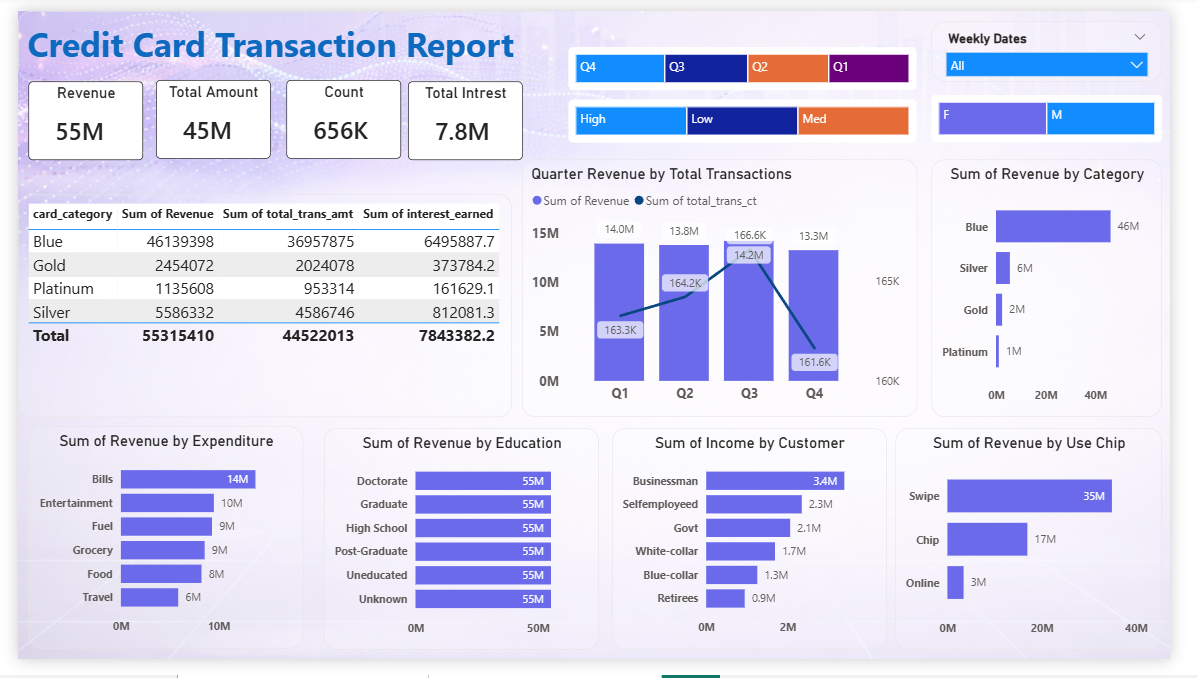

The page's visual inventory and layout, read from the dashboard file:
{"tool":"powerbi","page":{"name":"Credit Card Transaction","canvas":[1280,720],"ordinal":0},"visuals":[{"type":"textbox","box":[0,0,599.7,77.9],"z":0},{"type":"lineStackedColumnComboChart","title":"Quarter Revenue by Total Transactions","fields":{"Category":["public cc_detail.qtr"],"Y":["Sum(public cc_detail.Revenue)"],"Y2":["Sum(public cc_detail.total_trans_ct)"]},"box":[559.9,165.4,439,286.3],"z":1000},{"type":"barChart","title":"Sum of Revenue by Expenditure","fields":{"Y":["Sum(public cc_detail.Revenue)"],"Category":["public cc_detail.exp_type"]},"box":[11.1,461.3,305.4,246.5],"z":2000},{"type":"barChart","title":"Sum of Revenue by Education","fields":{"Y":["Sum(public cc_detail.Revenue)"],"Category":["public cust_detail.education_level"]},"box":[340.4,462.9,305.4,246.5],"z":3000},{"type":"barChart","title":"Sum of Revenue by Category","fields":{"Y":["Sum(public cc_detail.Revenue)"],"Category":["public cc_detail.card_category"]},"box":[1014.8,165.4,256.1,286.3],"z":4000},{"type":"barChart","title":"Sum of Income by Customer","fields":{"Y":["Sum(public cust_detail.income)"],"Category":["public cust_detail.customer_job"]},"box":[660.1,462.9,305,246],"z":5000},{"type":"barChart","title":"Sum of Revenue by Use Chip","fields":{"Y":["Sum(public cc_detail.Revenue)"],"Category":["public cc_detail.use_chip"]},"box":[975,462.9,295.9,246.5],"z":6000},{"type":"tableEx","fields":{"Values":["public cc_detail.card_category","Sum(public cc_detail.Revenue)","Sum(public cc_detail.total_trans_amt)","Sum(public cc_detail.interest_earned)"]},"box":[0,203.6,548.8,248.1],"z":7000},{"type":"cardVisual","title":"Revenue","fields":{"Data":["Sum(public cc_detail.Revenue)"]},"box":[11.1,77.9,127,87.5],"z":8000},{"type":"cardVisual","title":"Total Amount","fields":{"Data":["Sum(public cc_detail.total_trans_amt)"]},"box":[152.7,76.3,127,87.5],"z":9000},{"type":"cardVisual","title":"Count","fields":{"Data":["Sum(public cc_detail.total_trans_ct)"]},"box":[299,76.3,127,87.5],"z":10000},{"type":"cardVisual","title":"Total Intrest","fields":{"Data":["Sum(public cc_detail.interest_earned)"]},"box":[432.6,77.9,127.2,87.5],"z":11000},{"type":"slicer","fields":{"Values":["public cc_detail.week_start_date"]},"box":[1014.8,11.1,256.1,66.8],"z":12000},{"type":"treemap","fields":{"Group":["public cc_detail.qtr"],"Values":["Sum(public cc_detail.client_num)"]},"box":[612.4,39.8,386.5,47.7],"z":13000},{"type":"treemap","fields":{"Group":["public cust_detail.gender"],"Values":["Sum(public cc_detail.client_num)"]},"box":[1014.8,93.8,256.1,52.5],"z":14000},{"type":"treemap","fields":{"Values":["Sum(public cc_detail.client_num)"],"Group":["public cust_detail.IncomeGroup"]},"box":[612.4,98.6,386.5,47.7],"z":15001}]}

Visuals, with their boxes in screenshot pixels (x1, y1, x2, y2), scaled from the page's 1280x720 canvas onto the 1197x678 screenshot:
textbox: crop(0, 0, 561, 73)
"Quarter Revenue by Total Transactions" lineStackedColumnComboChart: crop(524, 156, 934, 425)
"Sum of Revenue by Expenditure" barChart: crop(10, 434, 296, 667)
"Sum of Revenue by Education" barChart: crop(318, 436, 604, 668)
"Sum of Revenue by Category" barChart: crop(949, 156, 1188, 425)
"Sum of Income by Customer" barChart: crop(617, 436, 903, 668)
"Sum of Revenue by Use Chip" barChart: crop(912, 436, 1188, 668)
tableEx - public cc_detail.card_category x Sum(public cc_detail.Revenue): crop(0, 192, 513, 425)
"Revenue" cardVisual: crop(10, 73, 129, 156)
"Total Amount" cardVisual: crop(143, 72, 262, 154)
"Count" cardVisual: crop(280, 72, 398, 154)
"Total Intrest" cardVisual: crop(405, 73, 524, 156)
slicer - public cc_detail.week_start_date: crop(949, 10, 1188, 73)
treemap - public cc_detail.qtr x Sum(public cc_detail.client_num): crop(573, 37, 934, 82)
treemap - public cust_detail.gender x Sum(public cc_detail.client_num): crop(949, 88, 1188, 138)
treemap - Sum(public cc_detail.client_num) x public cust_detail.IncomeGroup: crop(573, 93, 934, 138)
